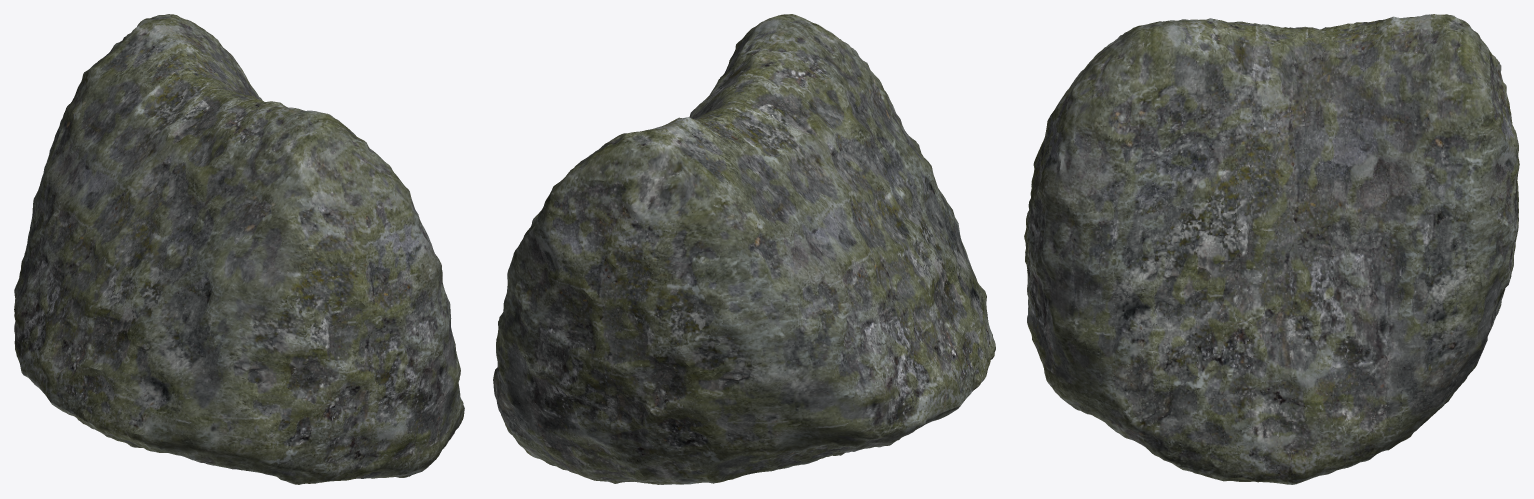
File: Cliff 3.fbx
3 renders of one model, left to right at view 1: azimuth 30°, elevation 25°; view 2: azimuth 150°, elevation 25°; view 3: azimuth 270°, elevation 25°, orthographic. The views are drawn at different scales.
Parts seen in each view (by area): view 1: rock.009; view 2: rock.009; view 3: rock.009.
Part boxes in pixels (x1=…): rock.009: x1=14, y1=14, x2=464, y2=484; rock.009: x1=493, y1=14, x2=995, y2=484; rock.009: x1=1024, y1=14, x2=1519, y2=484.
Bounding box in the file's own units: 594 × 561 × 652.
